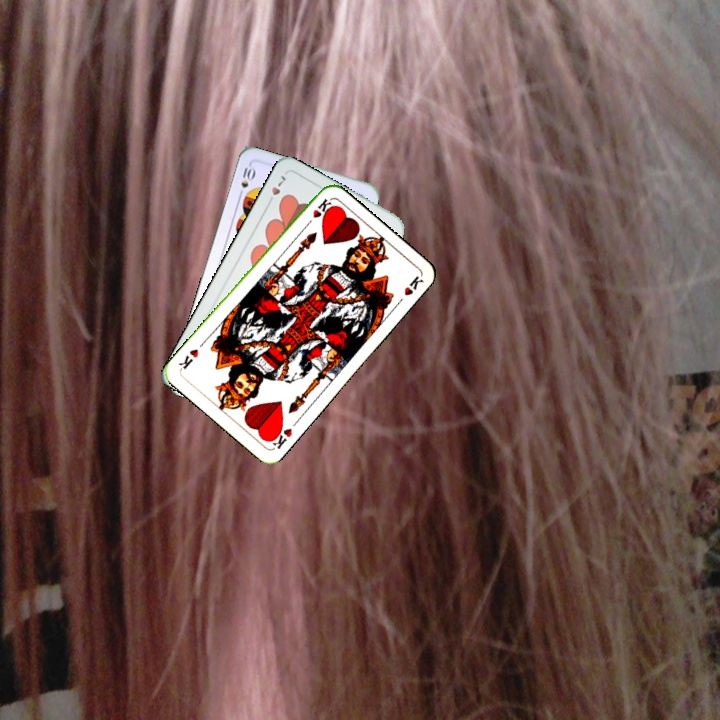H7: (264, 171, 288, 208)
HK: (301, 194, 334, 230), (265, 421, 295, 452)
S10: (234, 161, 257, 200)
